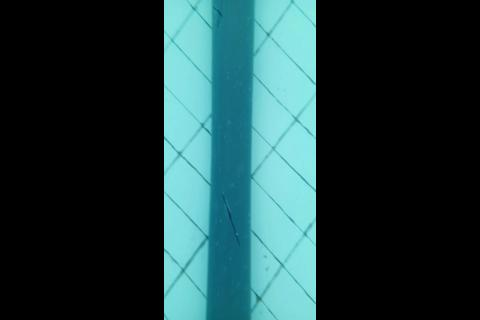keretakan: (221, 191, 240, 248), (213, 0, 224, 28)
